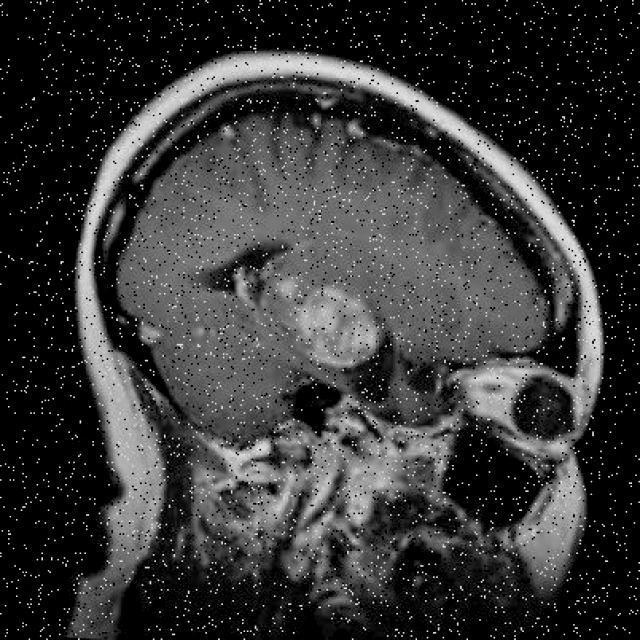CN: (256, 261, 412, 374)
